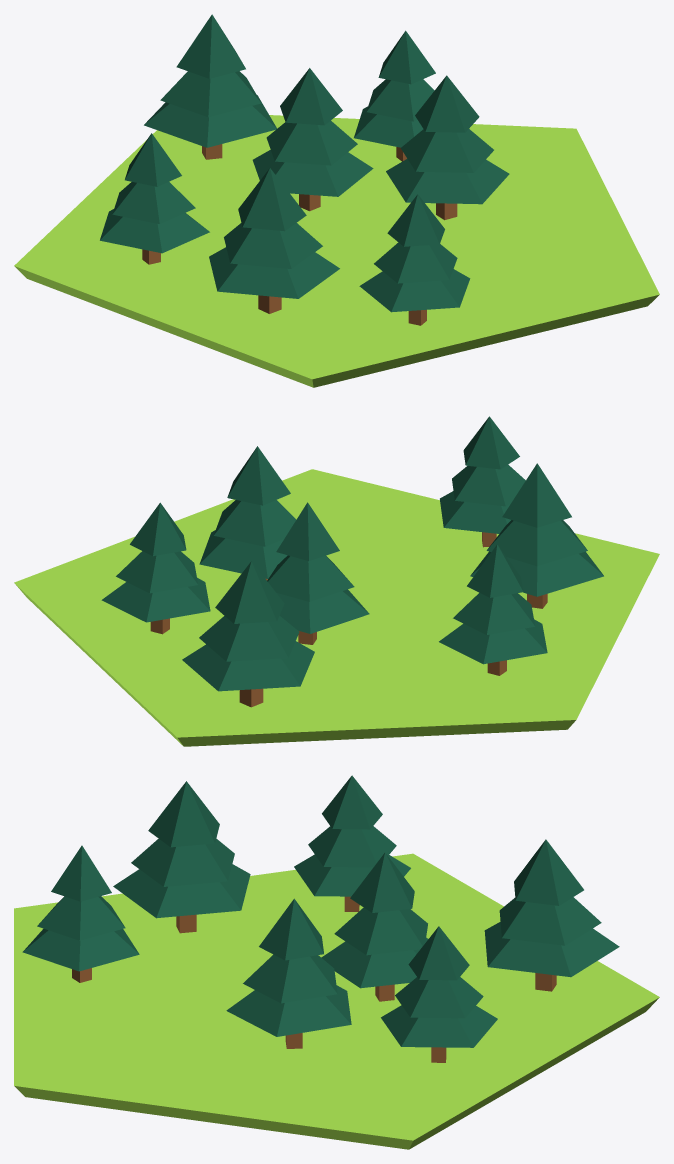
Rendered from TuileForestOine3.fbx.
3 views of the same model, one above another, from view 1: azimuth 30°, elevation 25°; view 2: azimuth 150°, elevation 25°; view 3: azimuth 270°, elevation 25° (orthographic). The views are drawn at different scales.
Parts seen in each view (by area): view 1: origine.005; view 2: origine.005; view 3: origine.005.
Boxes of the visible parts, x1,y1,x2,y2 form: origine.005: [14, 14, 659, 387]; origine.005: [14, 416, 659, 746]; origine.005: [14, 775, 659, 1149].
Bounding box in the file's own units: 111 × 29.25 × 105.
